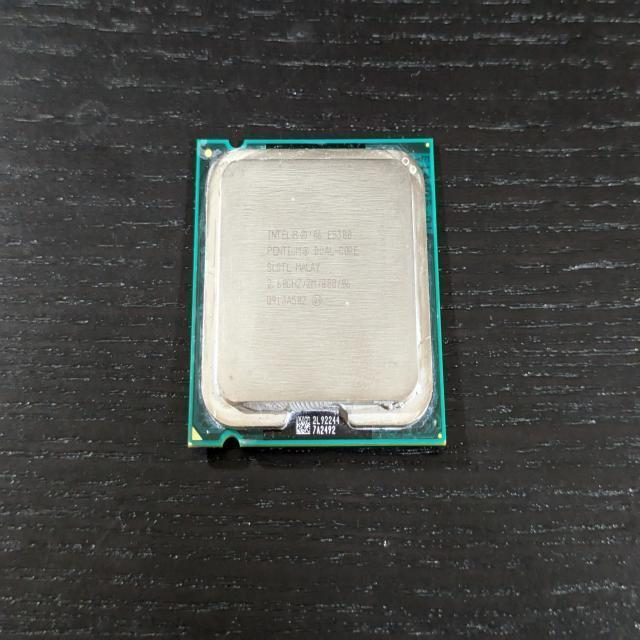CPU: (188, 139, 448, 445)
